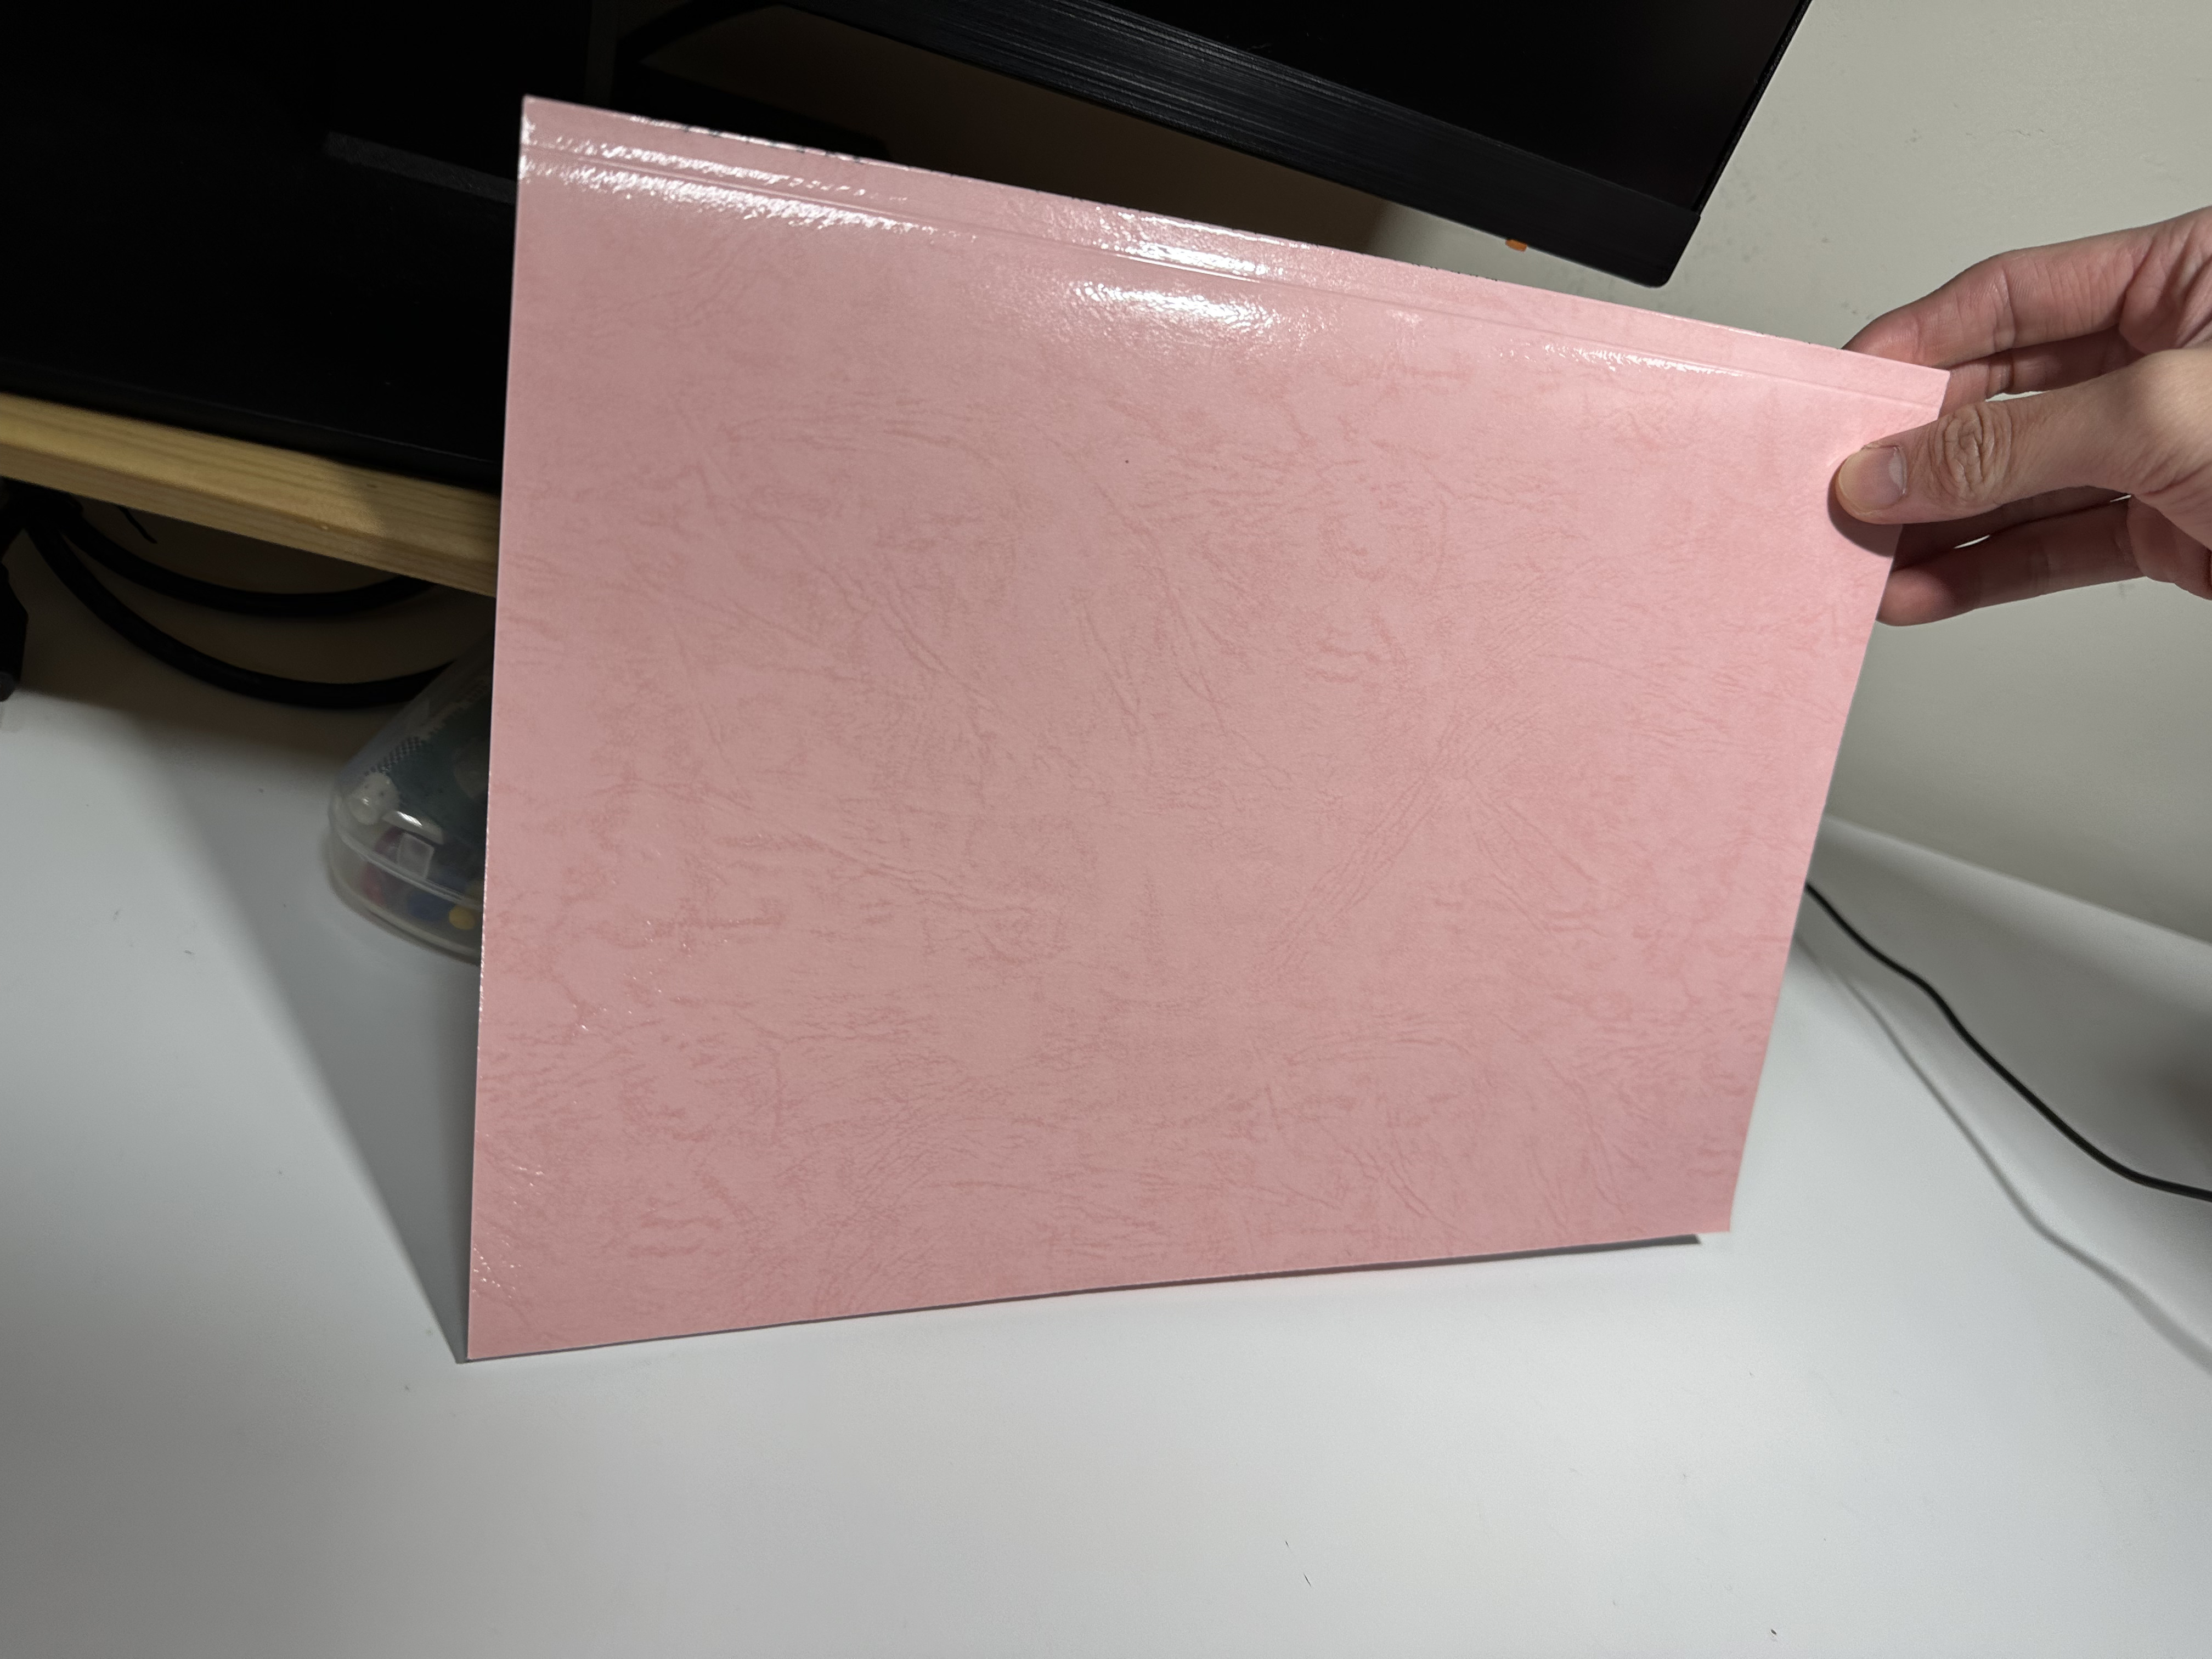book: (462, 89, 1963, 1363)
